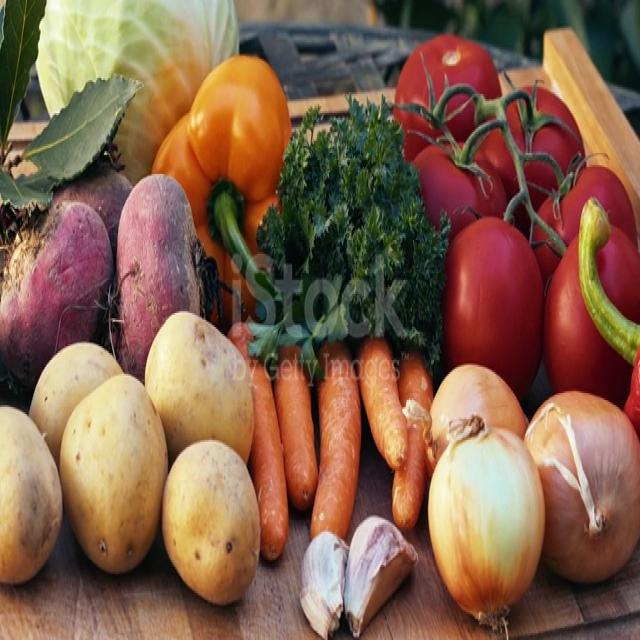carrot: (310, 343, 361, 539), (249, 361, 289, 561), (392, 352, 434, 530), (274, 346, 318, 510), (358, 339, 408, 468)
potato: (60, 374, 168, 573), (145, 311, 254, 463), (164, 441, 260, 603), (29, 343, 122, 464), (0, 407, 62, 584)
tomato: (442, 217, 544, 397), (544, 235, 631, 408), (414, 146, 508, 240), (539, 167, 638, 246), (395, 35, 501, 108), (506, 85, 585, 174), (598, 226, 640, 323), (481, 130, 519, 199), (394, 109, 441, 160), (526, 161, 558, 210), (446, 93, 475, 141), (536, 246, 559, 282)
